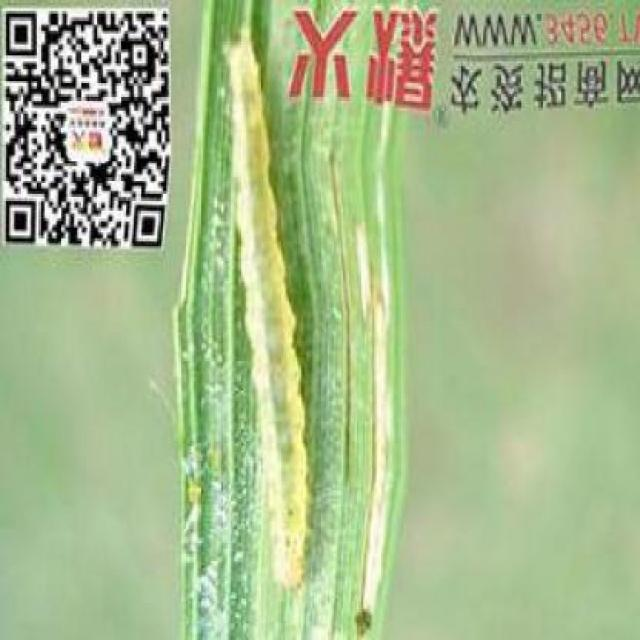leaf-folder: (209, 24, 293, 640)
